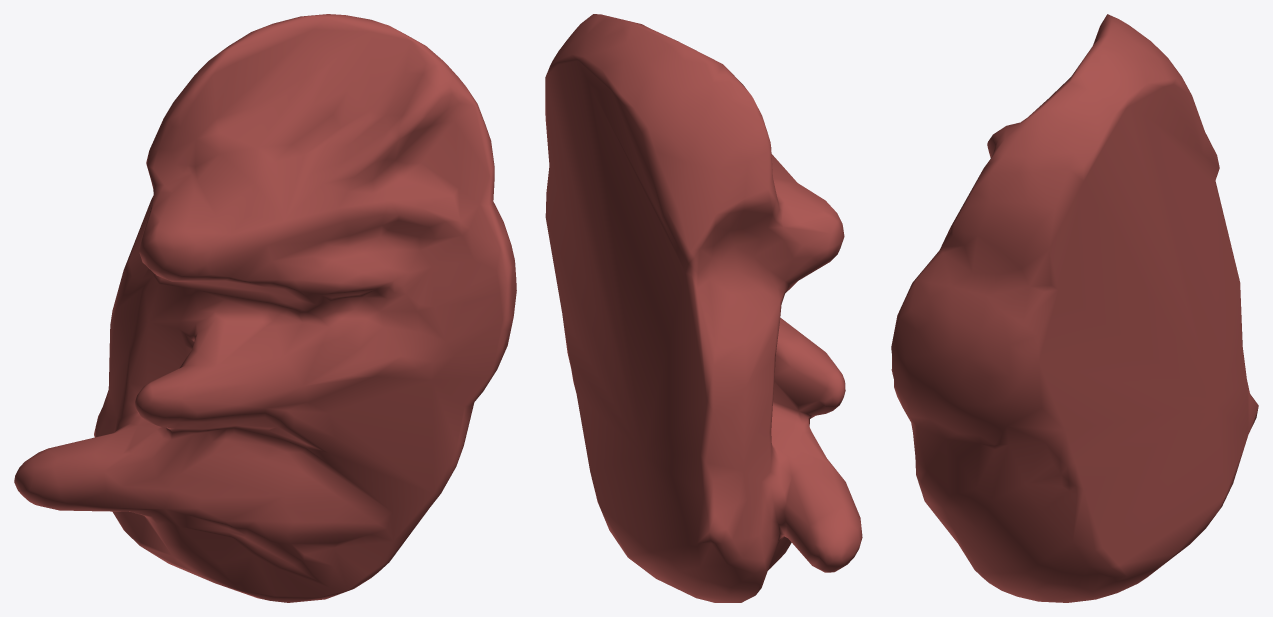
The model's file is FMA7262.glb.
3 views of the same model, side by side, from view 1: azimuth 30°, elevation 25°; view 2: azimuth 150°, elevation 25°; view 3: azimuth 270°, elevation 25° (orthographic). The views are drawn at different scales.
Parts seen in each view (by area): view 1: FMA7262; view 2: FMA7262; view 3: FMA7262.
Boxes of the visible parts, <box> form: FMA7262: <box>14,14,516,602</box>; FMA7262: <box>545,14,862,602</box>; FMA7262: <box>891,14,1258,602</box>.
Bounding box in the file's own units: 0.0195 × 0.027 × 0.0155.
